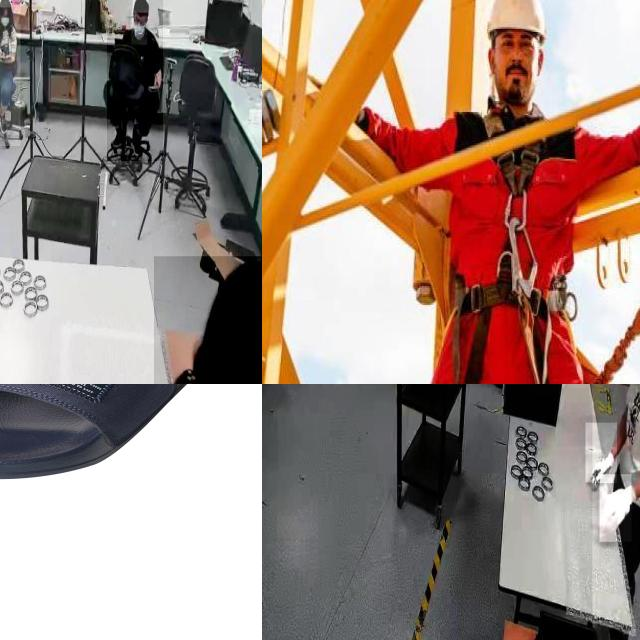Harness: (443, 98, 593, 384)
Sandals: (0, 384, 237, 491)
face_mask: (131, 10, 147, 45), (0, 7, 14, 35)
hand_glove: (600, 474, 632, 543), (585, 423, 617, 483)
hand_noglove: (0, 49, 4, 60)
head_nohelmet: (132, 0, 149, 13), (0, 0, 11, 8)
person: (154, 256, 262, 384), (592, 384, 640, 640), (106, 0, 163, 162), (0, 0, 20, 147)
shoes: (130, 125, 143, 158), (110, 124, 125, 150), (0, 110, 10, 137)
